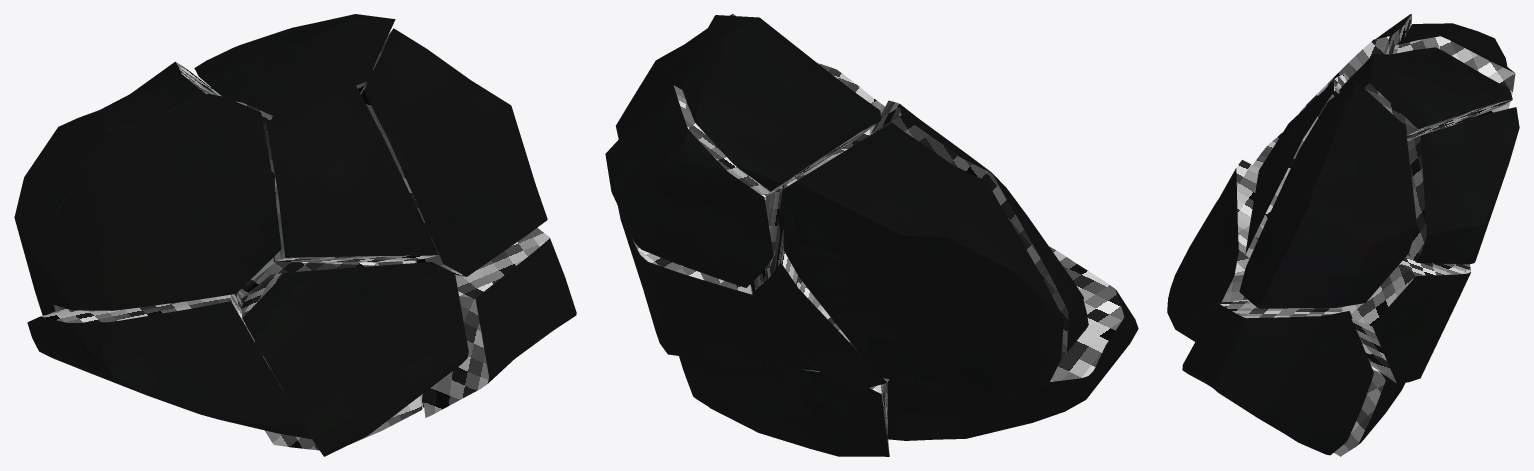
The picture shows the model from 3 angles, left to right: view 1: azimuth 30°, elevation 25°; view 2: azimuth 150°, elevation 25°; view 3: azimuth 270°, elevation 25°; orthographic projection. The views are drawn at different scales.
Parts seen in each view (by area): view 1: SM_VFX_Rocksplosion_02_LOD0; view 2: SM_VFX_Rocksplosion_02_LOD0; view 3: SM_VFX_Rocksplosion_02_LOD0.
Part boxes in pixels (left/top/right/bottom): SM_VFX_Rocksplosion_02_LOD0: left=14, top=14, right=576, bottom=456; SM_VFX_Rocksplosion_02_LOD0: left=605, top=14, right=1138, bottom=456; SM_VFX_Rocksplosion_02_LOD0: left=1167, top=14, right=1519, bottom=456.
Bounding box in the file's own units: 1.4 × 1.15 × 0.9396.
Materials: 2 (2 with a texture image).
